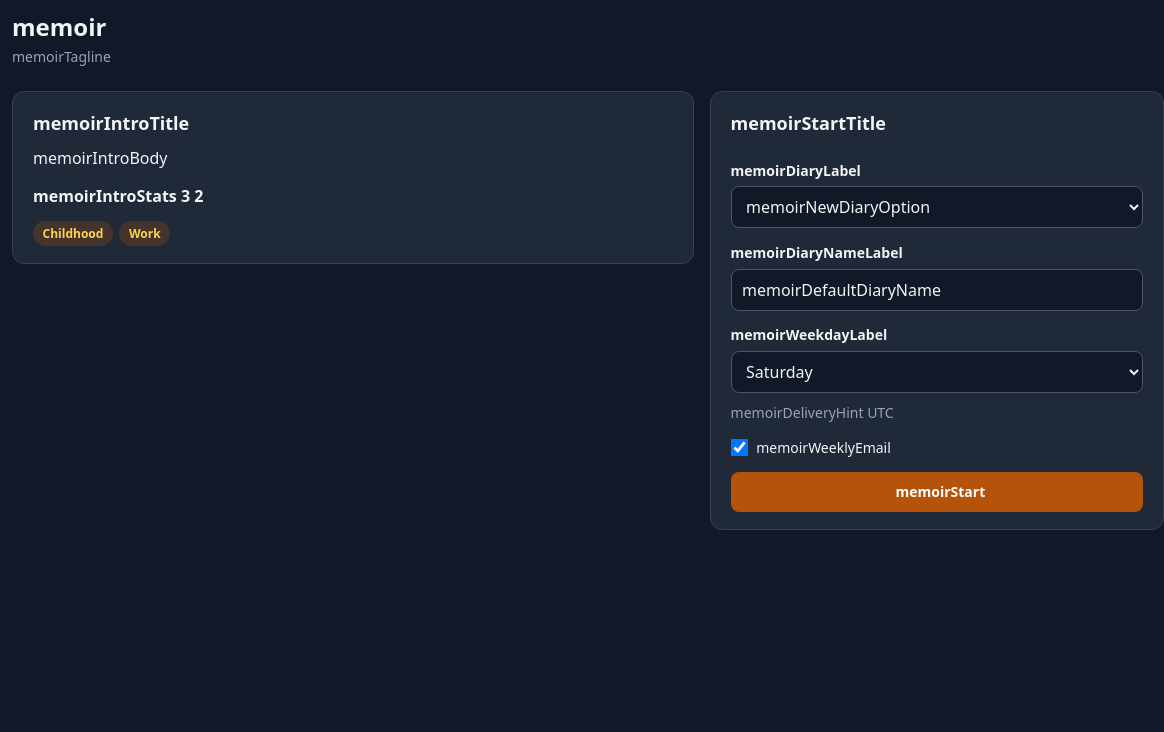
Test: MemoirPage › starts in an existing diary and reports a failed start
The image size is (1164, 732).
Select "💭 Thoughts" in the dropdown labelled "memoirDiaryLabel". click: (937, 207)
box: [731,186,1143,228]
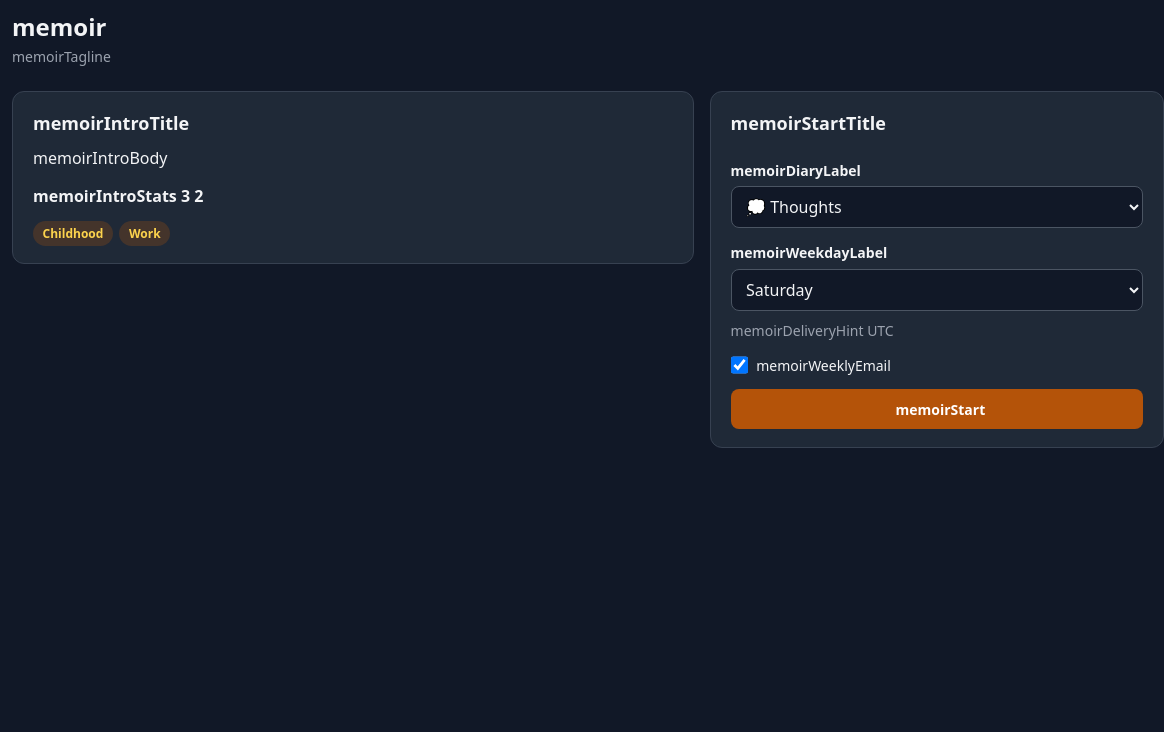
Expected: the label labelled "memoirDiaryNameLabel" is gone
Click the button "memoirStart". click: (937, 409)
box: [731,389,1143,429]
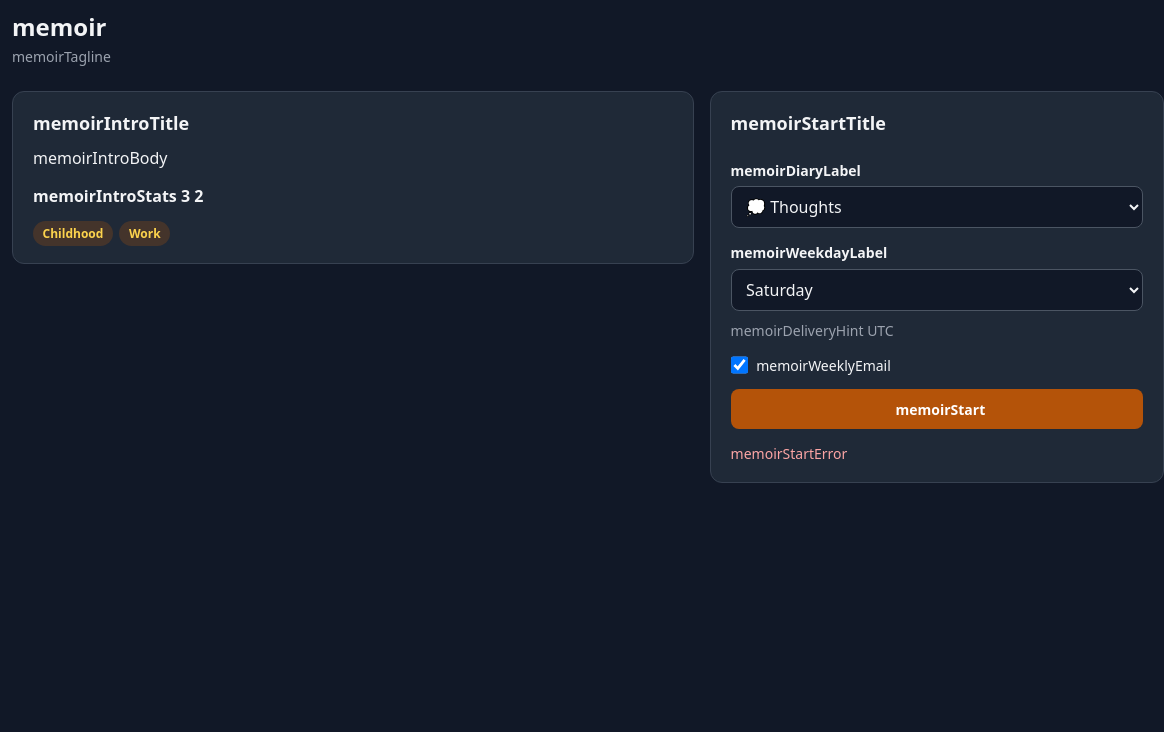
Expected: the message reads "memoirStartError", [731,444,847,463]
